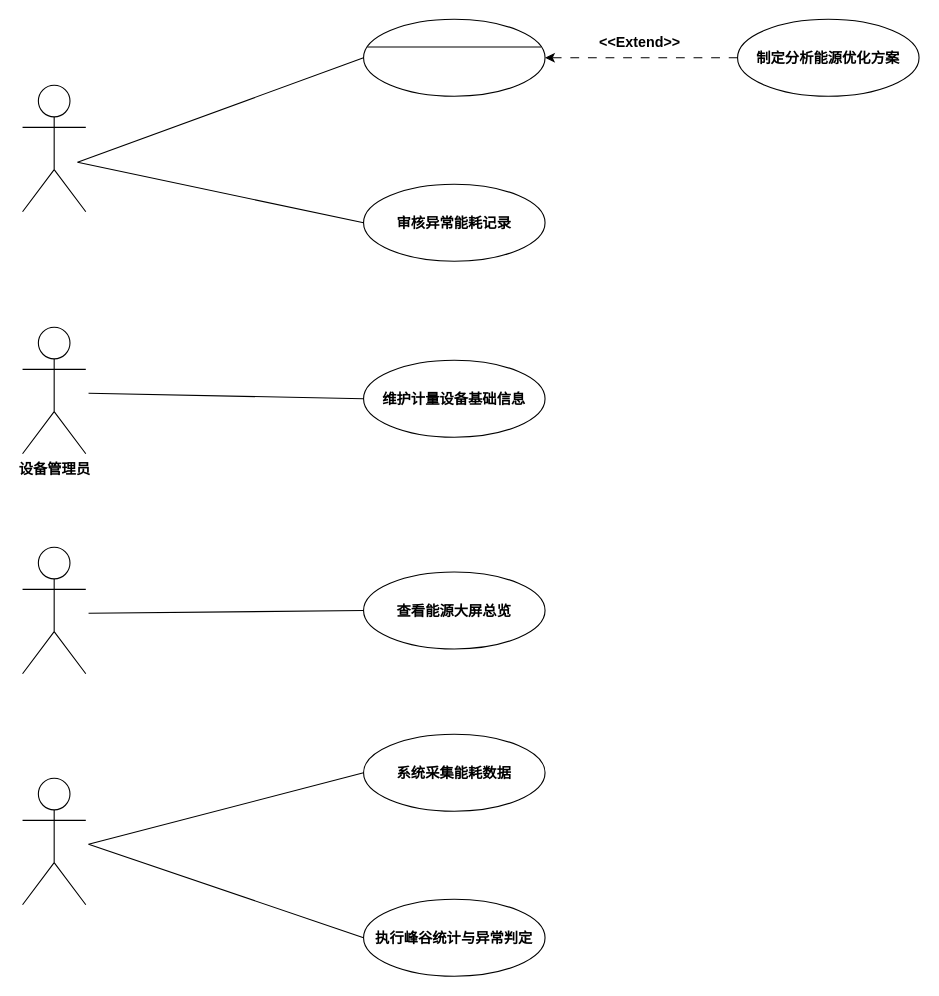
Image size: 939x996. Some labels were removed from this diagram. The shapes that lost their labels are listed below. From the top down, each one's box as (x1, y1, x2, y2) in pixels, then its label:
(362, 18, 545, 96): 查看分析能耗数据表 extension point 制定分析能源优化方案
(21, 84, 86, 212): 能源管理员
(21, 546, 86, 674): 企业管理员
(21, 777, 86, 905): 系统后台
